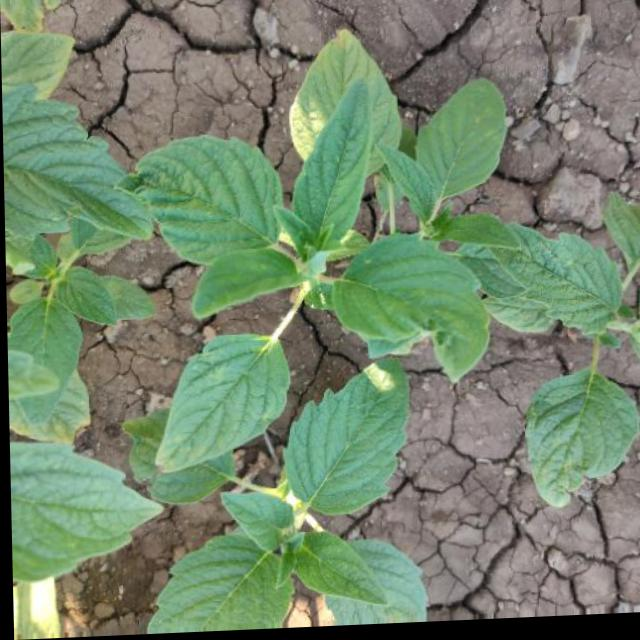crop: (130, 48, 535, 484), (2, 14, 144, 592), (139, 359, 435, 635), (471, 188, 640, 528)
